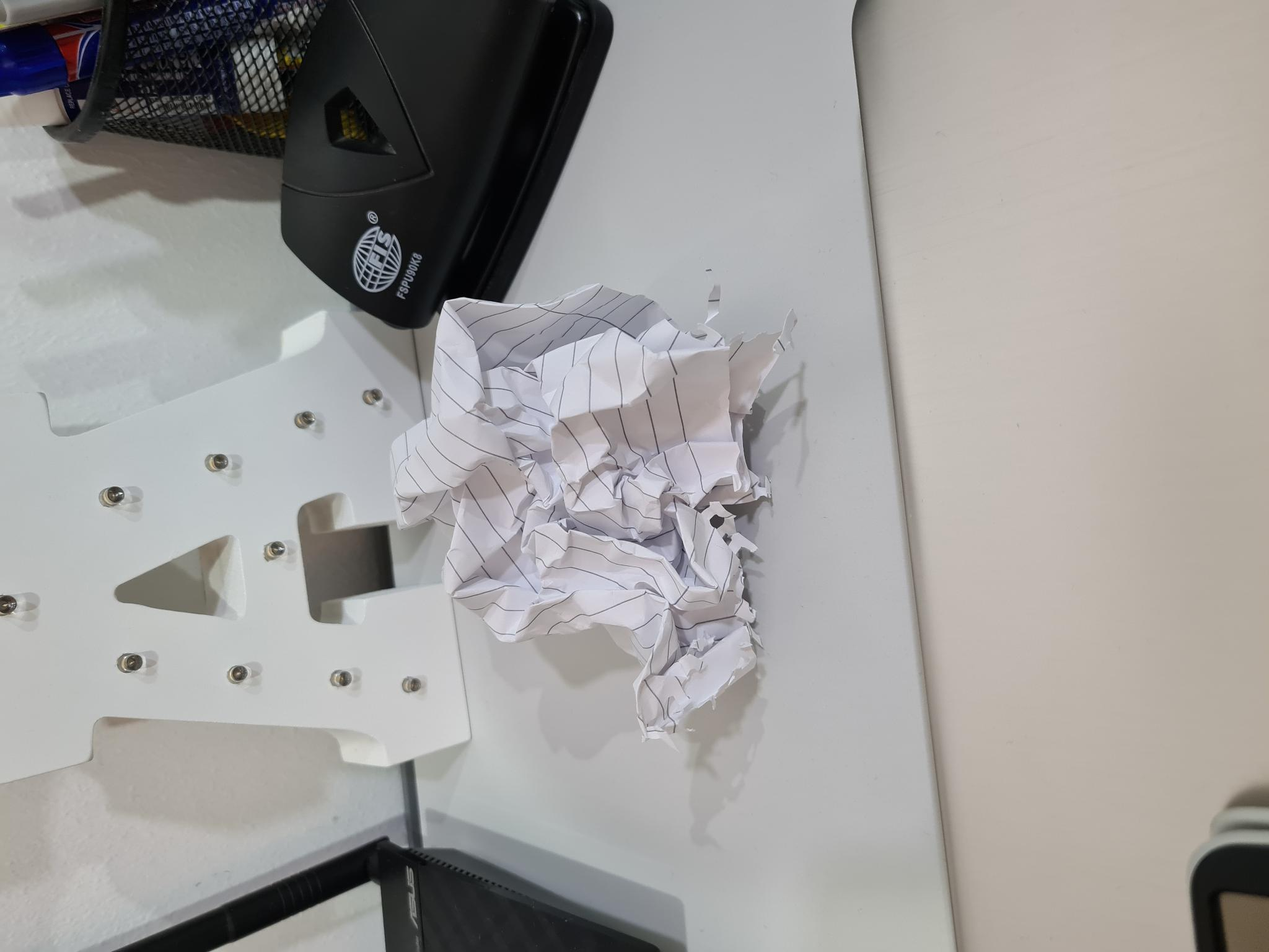Kertas: (327, 415, 659, 772)
